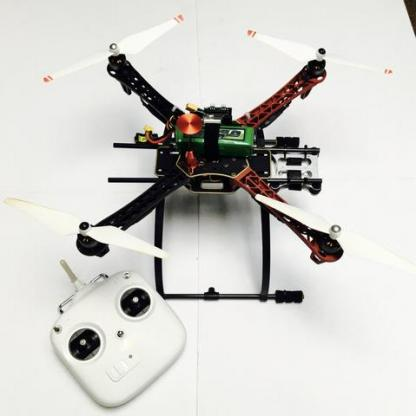drone: (7, 27, 416, 308)
